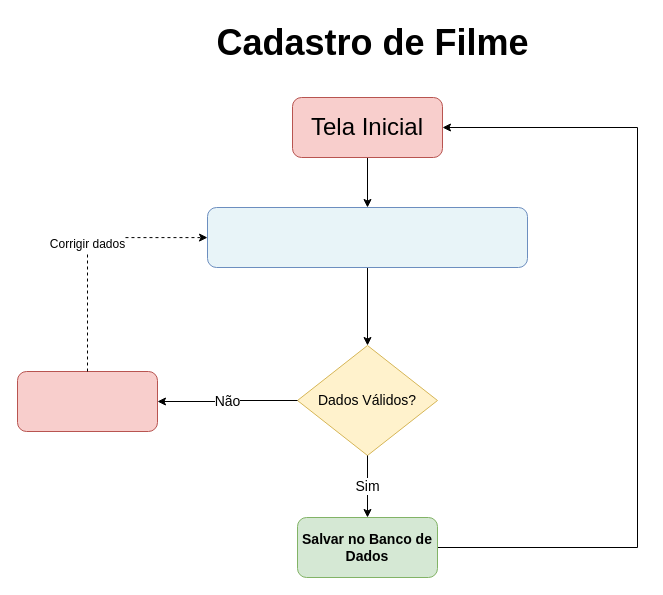
The diagram is 663 pixels wide and 595 high, and some of its shapes have lost their labels. The shapes that lost their labels are listed below. From the top down, each one's box as (x1, y1, x2, y2) in pixels, then its label:
(206, 206, 528, 268): Formulário de cadastro
(16, 370, 158, 432): Exibir mensagem de erro
